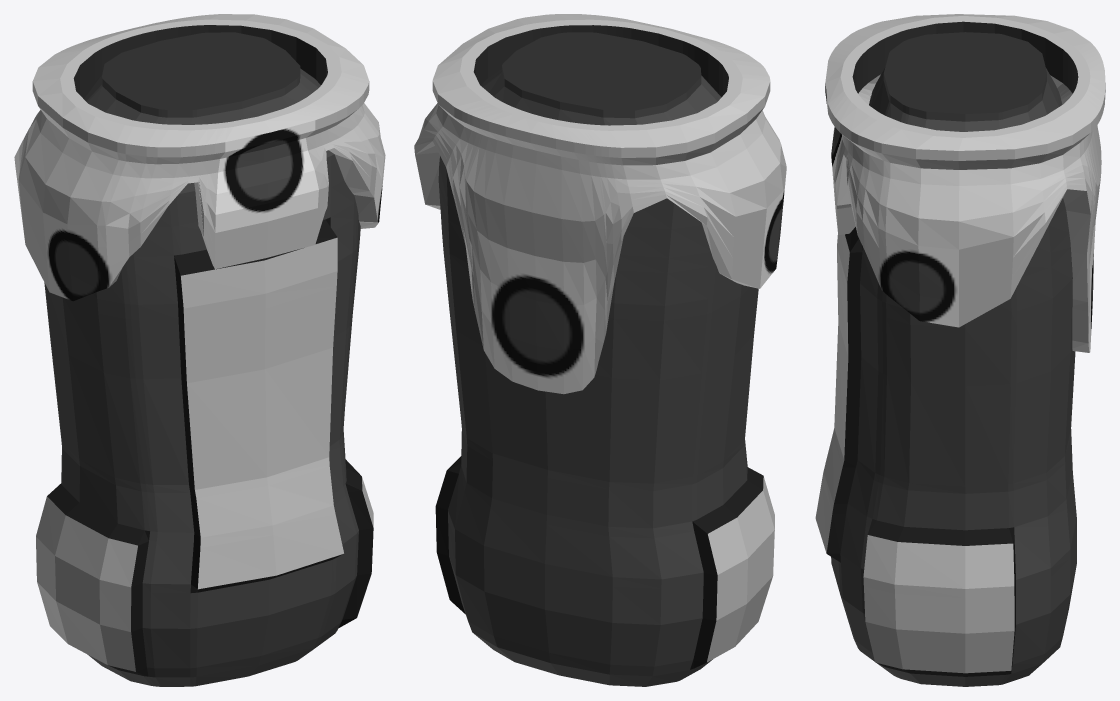
Rendered from person_thin_vacsuit.obj.
3 renders of one model, left to right at view 1: azimuth 30°, elevation 25°; view 2: azimuth 150°, elevation 25°; view 3: azimuth 270°, elevation 25°, orthographic.
Bounding box in the file's own units: 0.4438 × 0.75 × 0.3483.
